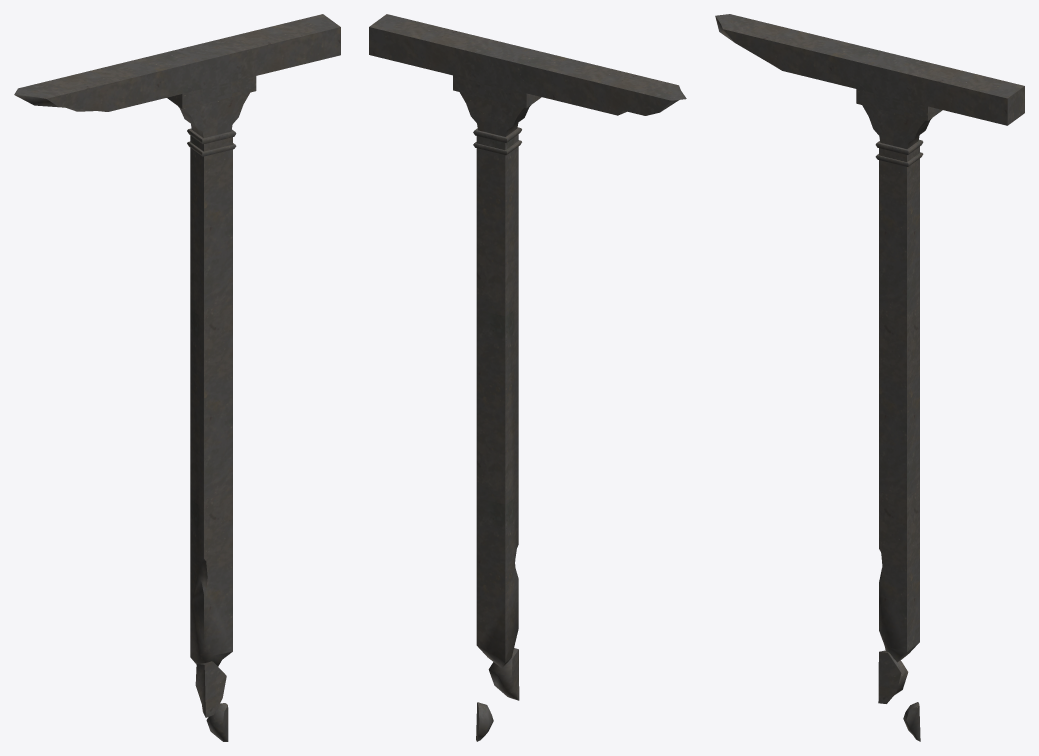
The model's file is SM_Qiao01.glb.
The picture shows the model from 3 angles, left to right: view 1: azimuth 30°, elevation 25°; view 2: azimuth 150°, elevation 25°; view 3: azimuth 330°, elevation 25°; orthographic projection. The views are drawn at different scales.
Parts seen in each view (by area): view 1: SM_Qiao01.001; view 2: SM_Qiao01.001; view 3: SM_Qiao01.001.
Part boxes in pixels (<box>): SM_Qiao01.001: <box>14,14,340,741</box>; SM_Qiao01.001: <box>369,14,686,741</box>; SM_Qiao01.001: <box>715,14,1024,741</box>.
Size of the model in its own units: 5582 by 11840 by 562.
Materials: 1 (1 with a texture image).
